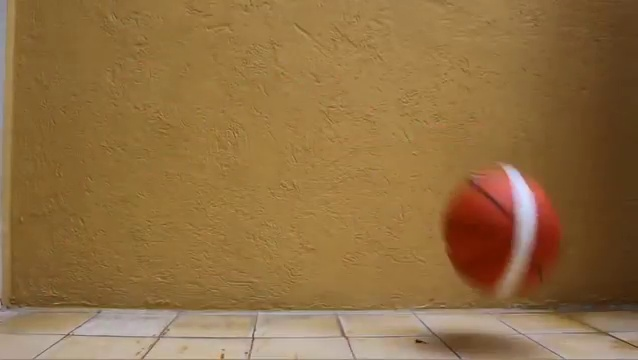ball: (440, 163, 567, 298)
